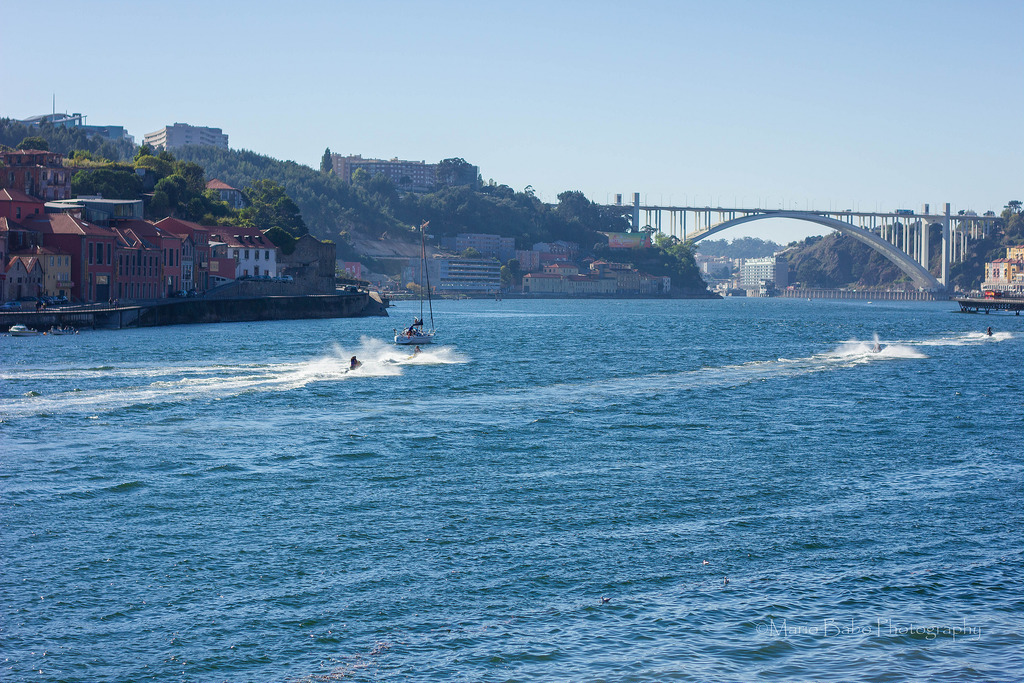arrabida: (590, 193, 1001, 292)
